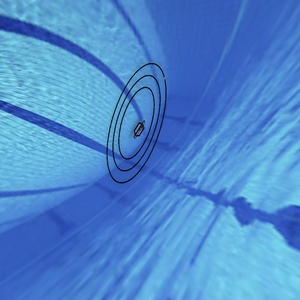circle: (94, 48, 179, 190)
submarine: (129, 113, 148, 144)
